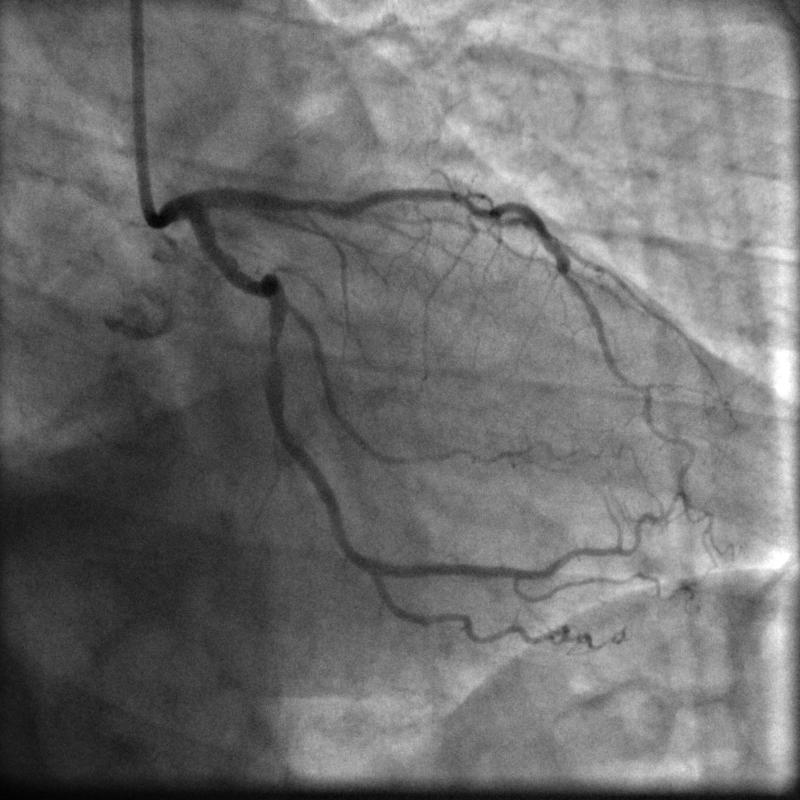Stenosis: (266, 337, 281, 361)
